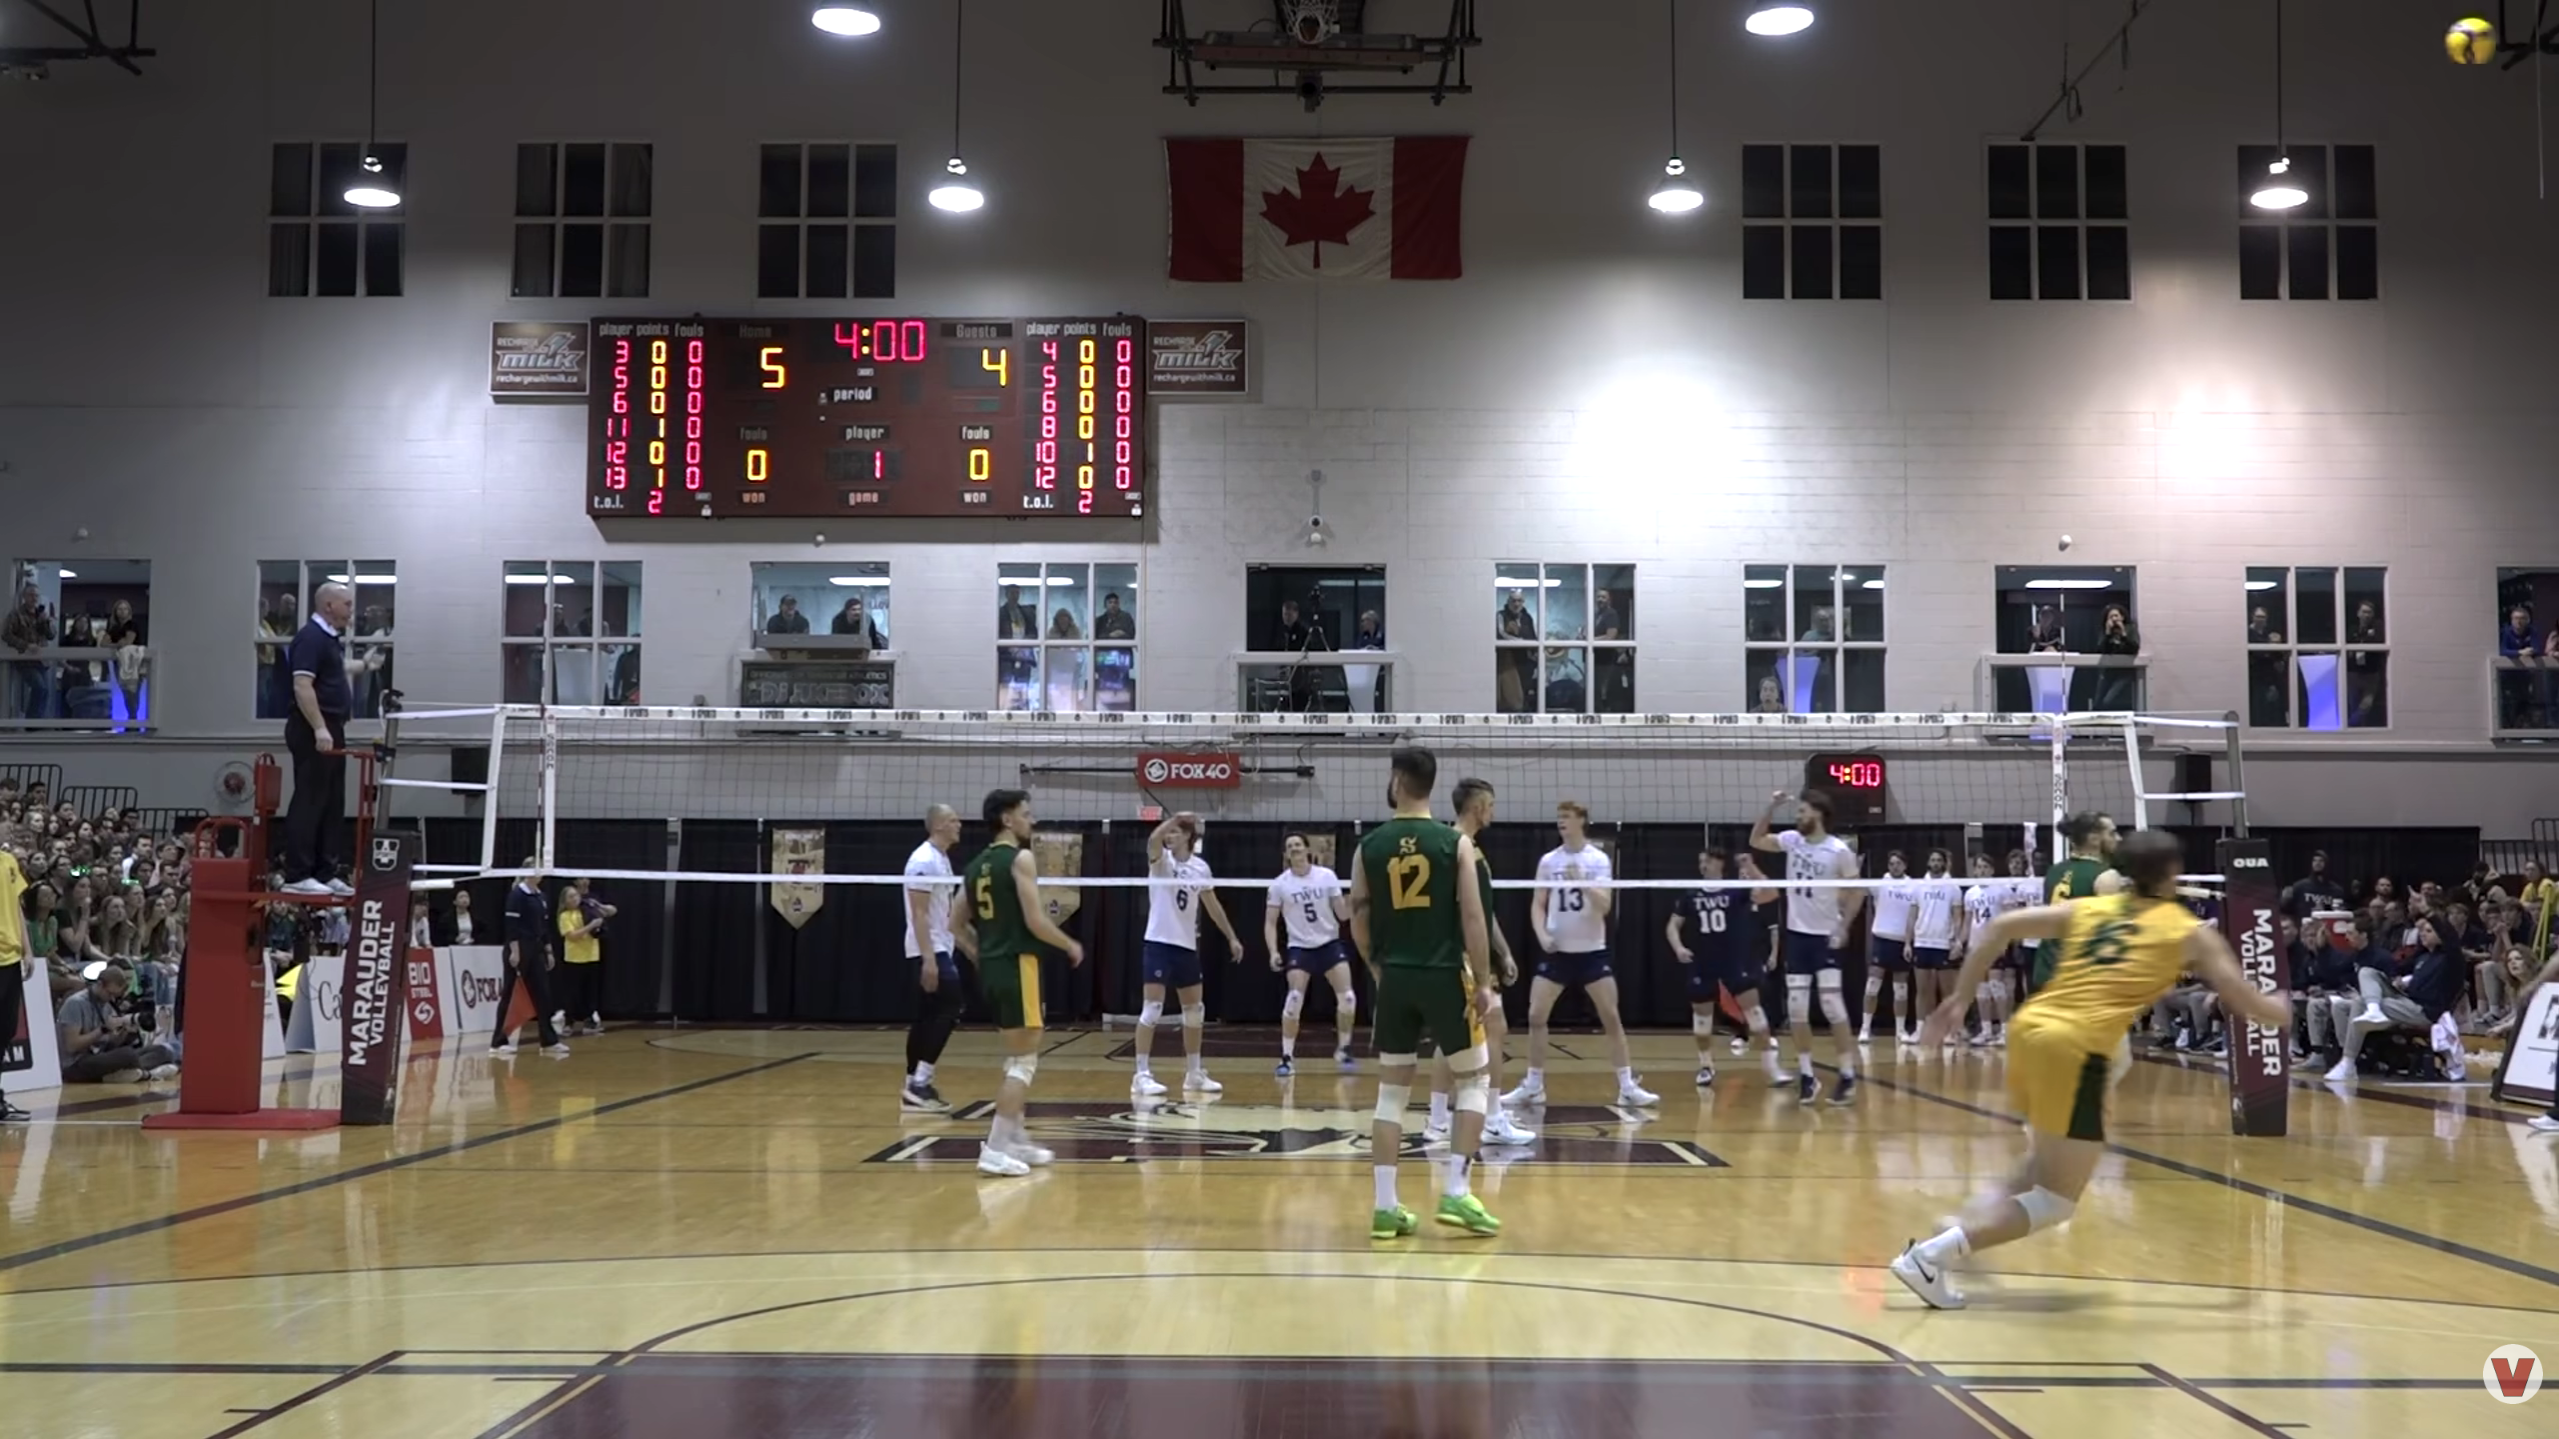Ball: (2443, 12, 2497, 67)
